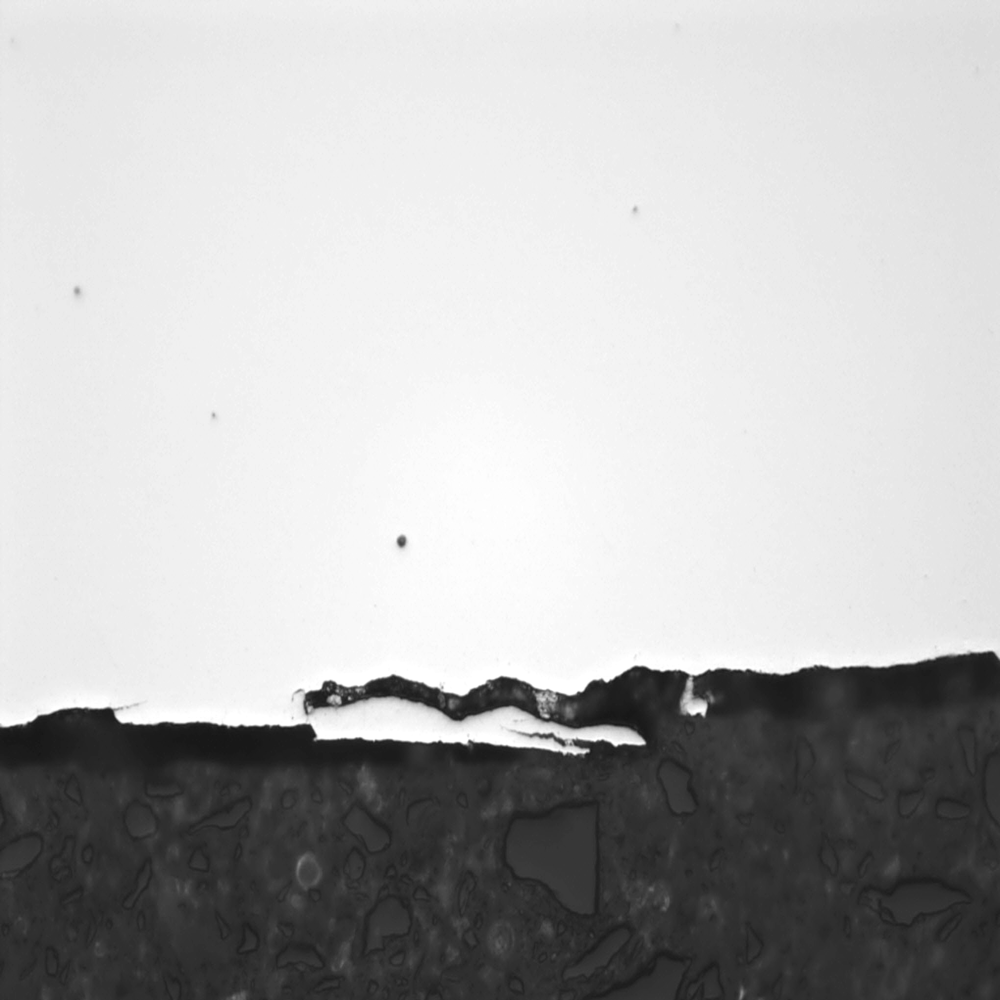crack: (272, 660, 735, 758)
